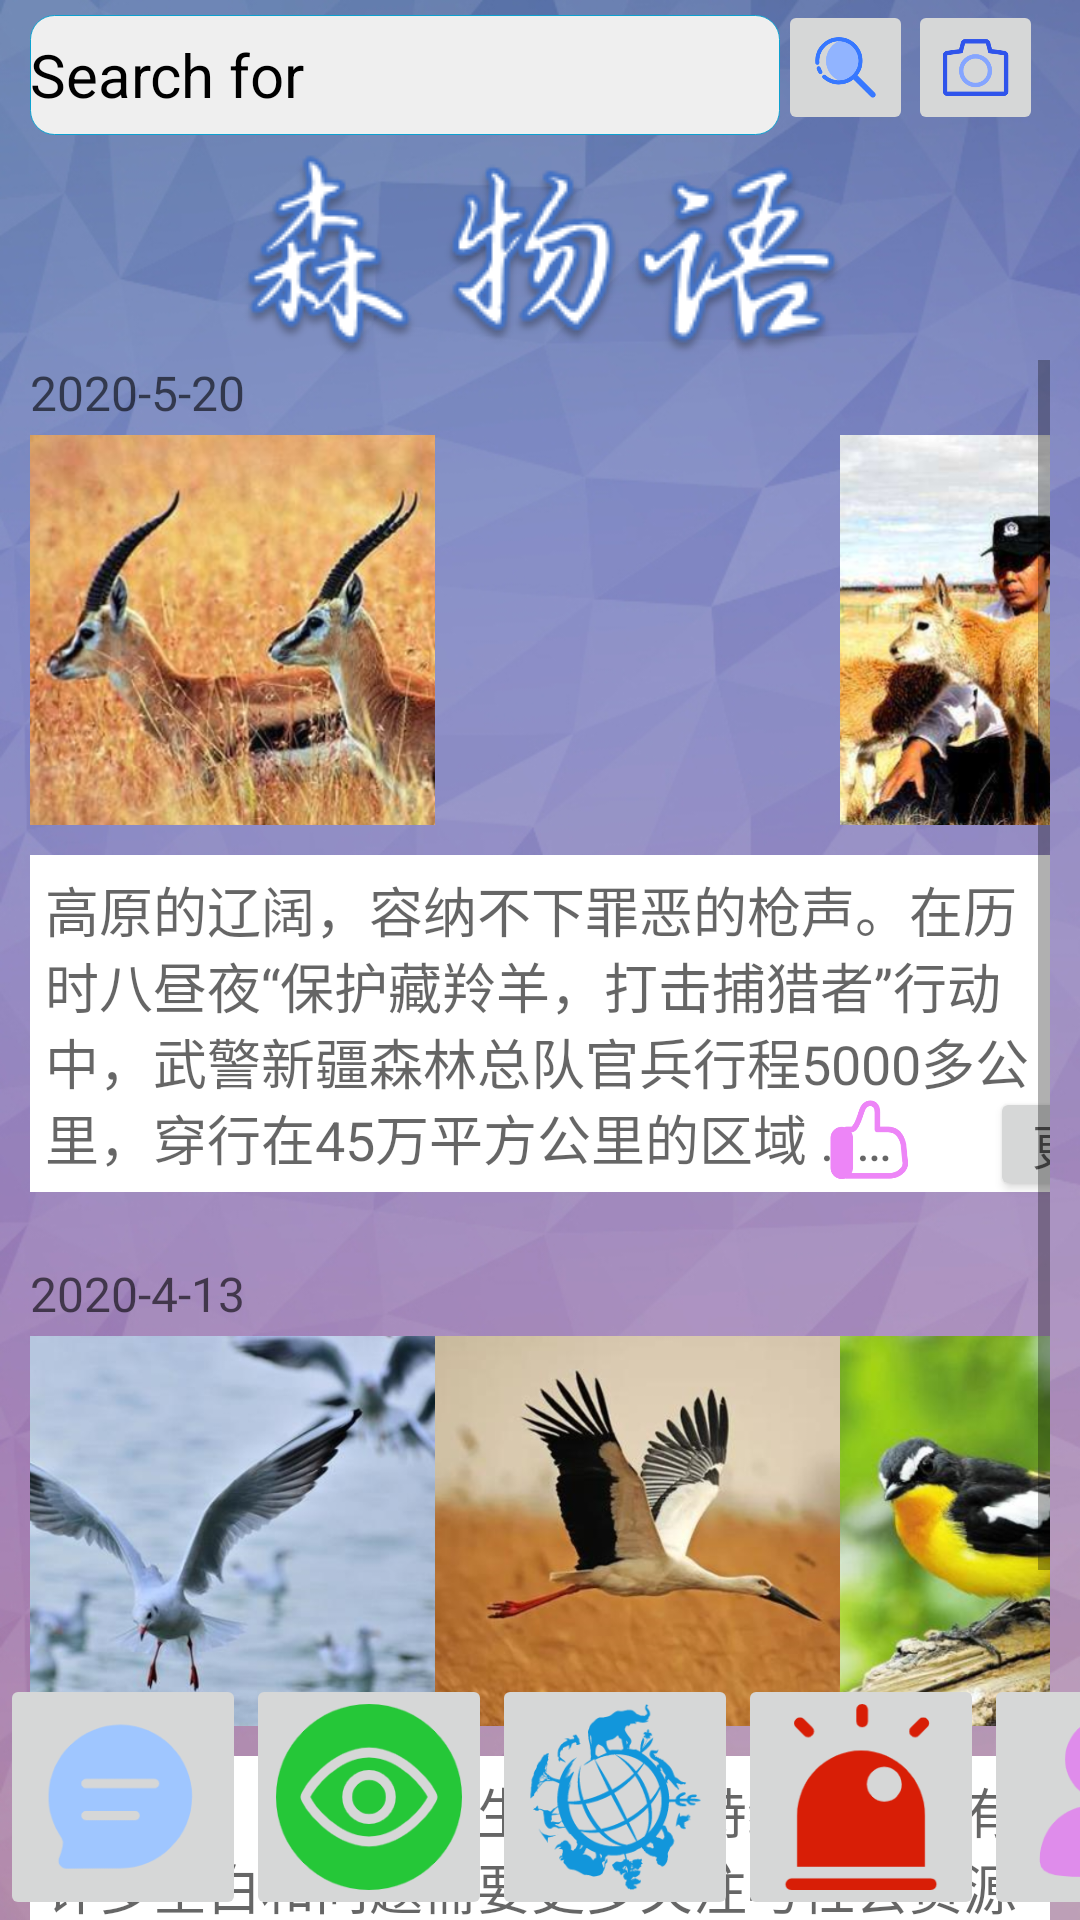

Point at icon controls on the screen. Image size 1080 × 1920, points as [x,y].
camera: [975,67]
dianzan: [866,1139]
module animal list: [615,1797]
module latest message: [123,1797]
module report: [861,1797]
